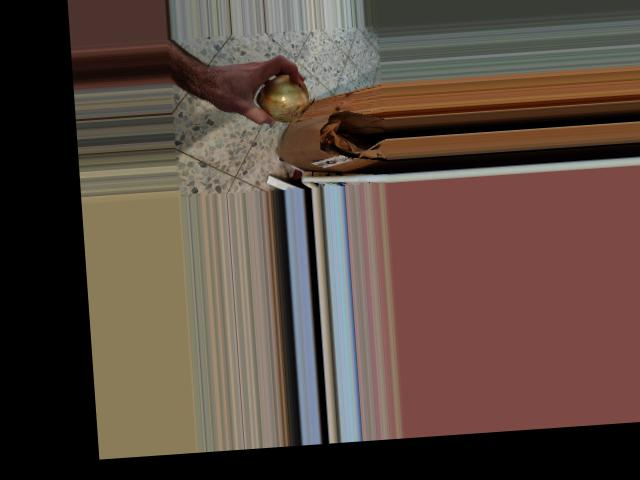onion: (252, 69, 320, 124)
